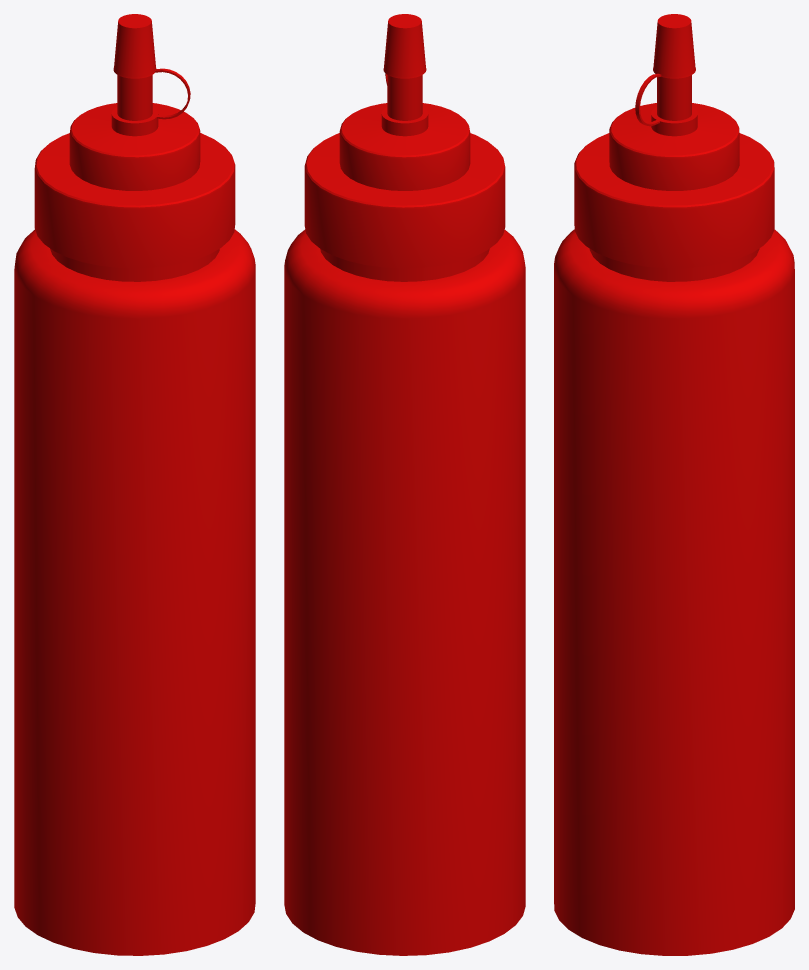
Rendered from chaituongNOMATERIAL.glb.
3 renders of one model, left to right at view 1: azimuth 30°, elevation 25°; view 2: azimuth 150°, elevation 25°; view 3: azimuth 270°, elevation 25°, orthographic.
Parts seen in each view (by area): view 1: Cylinder; view 2: Cylinder; view 3: Cylinder.
Boxes of the visible parts, left/top/right/bottom form: Cylinder: left=14, top=14, right=255, bottom=955; Cylinder: left=284, top=14, right=525, bottom=955; Cylinder: left=554, top=14, right=794, bottom=955.
Size of the model in its own units: 0.2685 by 1.09 by 0.2685.
